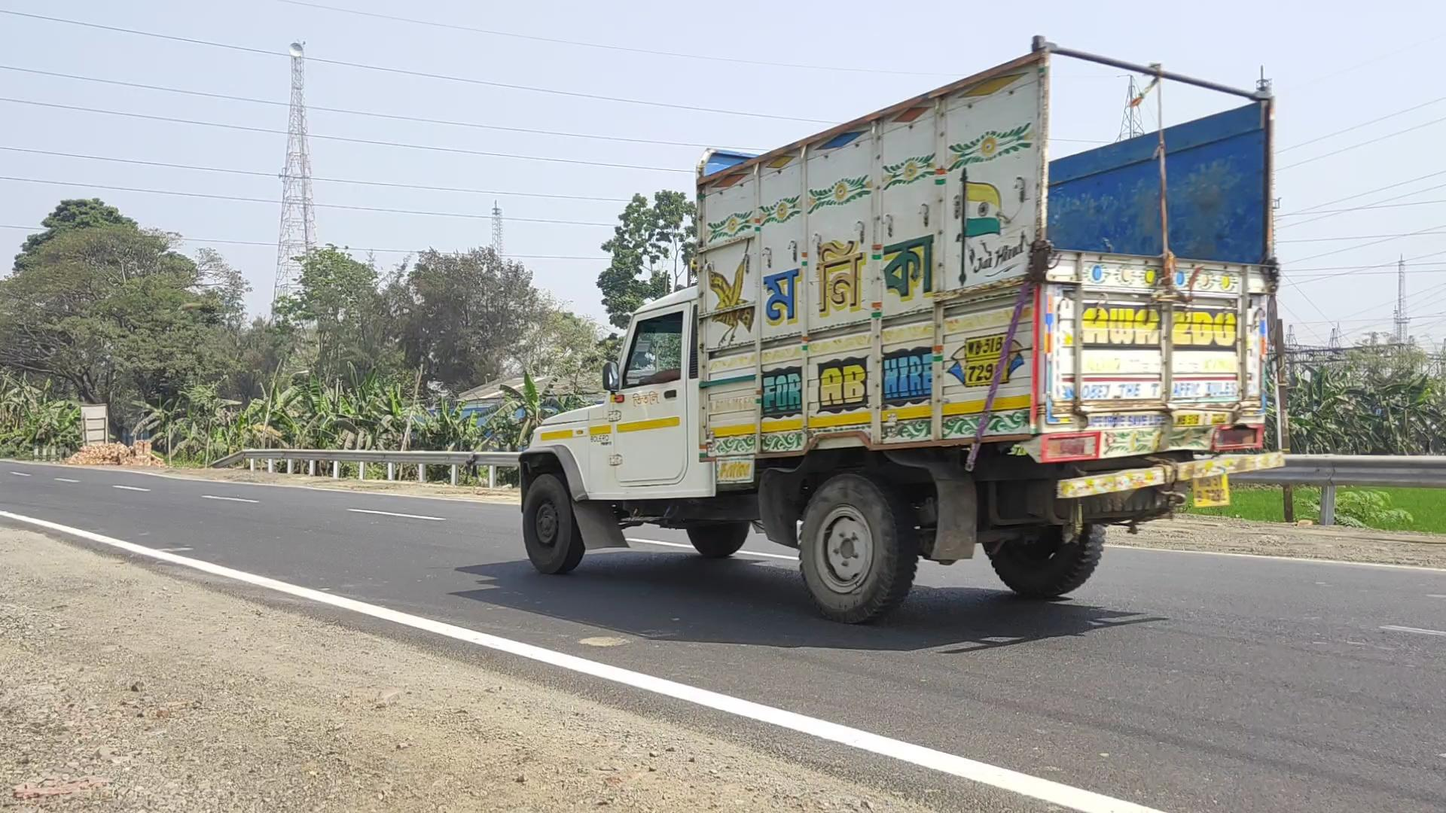van: (519, 35, 1280, 625)
